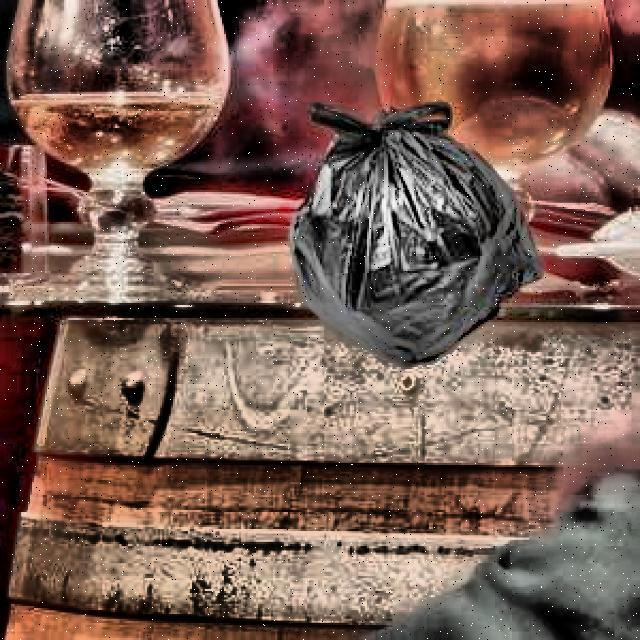Trashbag: (285, 96, 549, 368)
